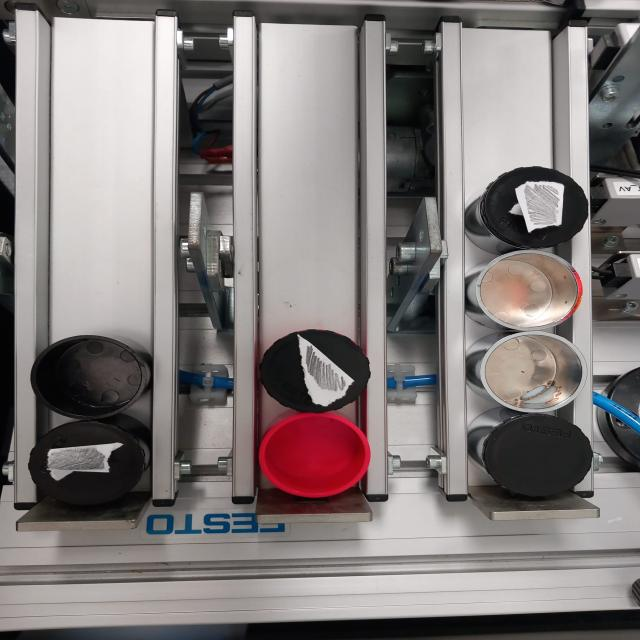NoLid: (465, 250, 596, 331), (469, 336, 592, 416), (258, 412, 374, 496), (34, 334, 152, 416)
Workpiece: (468, 418, 597, 507)
